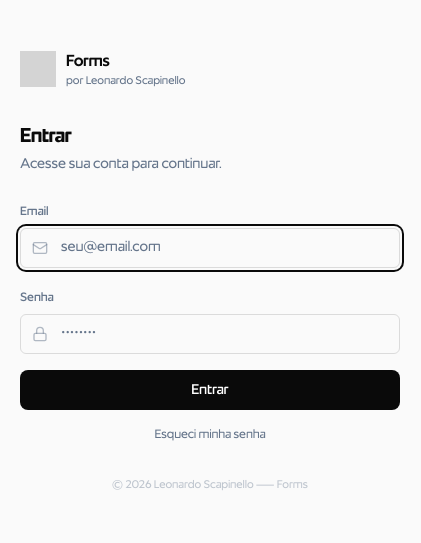
it: Login account access › recovers from a rejected login request without leaving the form loading
The width and height of the screenshot is (421, 543).
Type "leonardo@example.com" into the field labelled "Email" at (210,248), box [20,228,400,268]
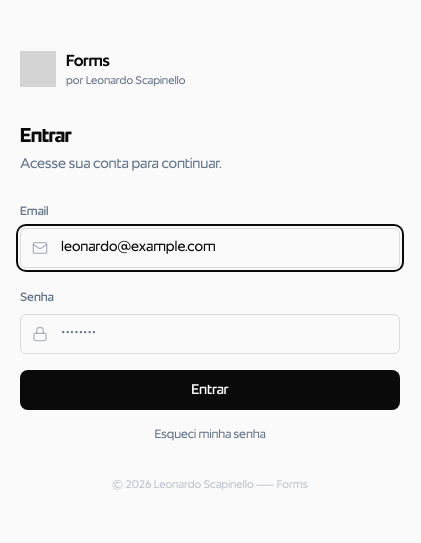
Type "senha-segura" into the password field labelled "Senha" at (210,334), box [20,314,400,354]
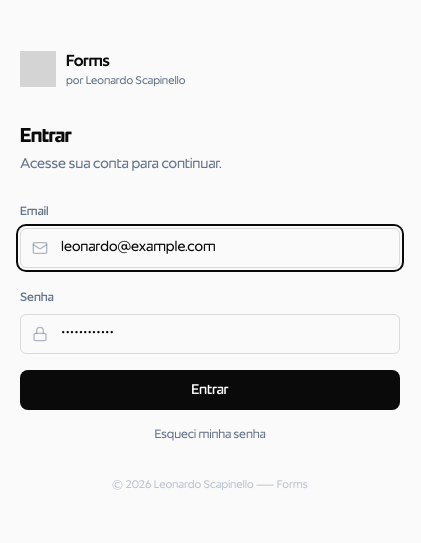
Click the button "Entrar" at (210,390), box [20,370,400,410]
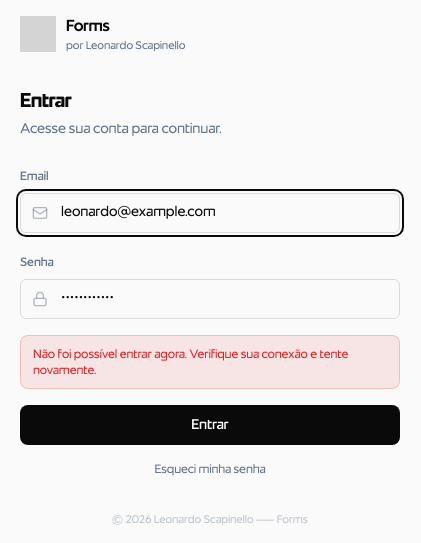
Expected: the button "Entrar" is enabled, [20,404,400,444]
Expected: the message shows "Não foi possível entrar agora", [33,348,348,376]
